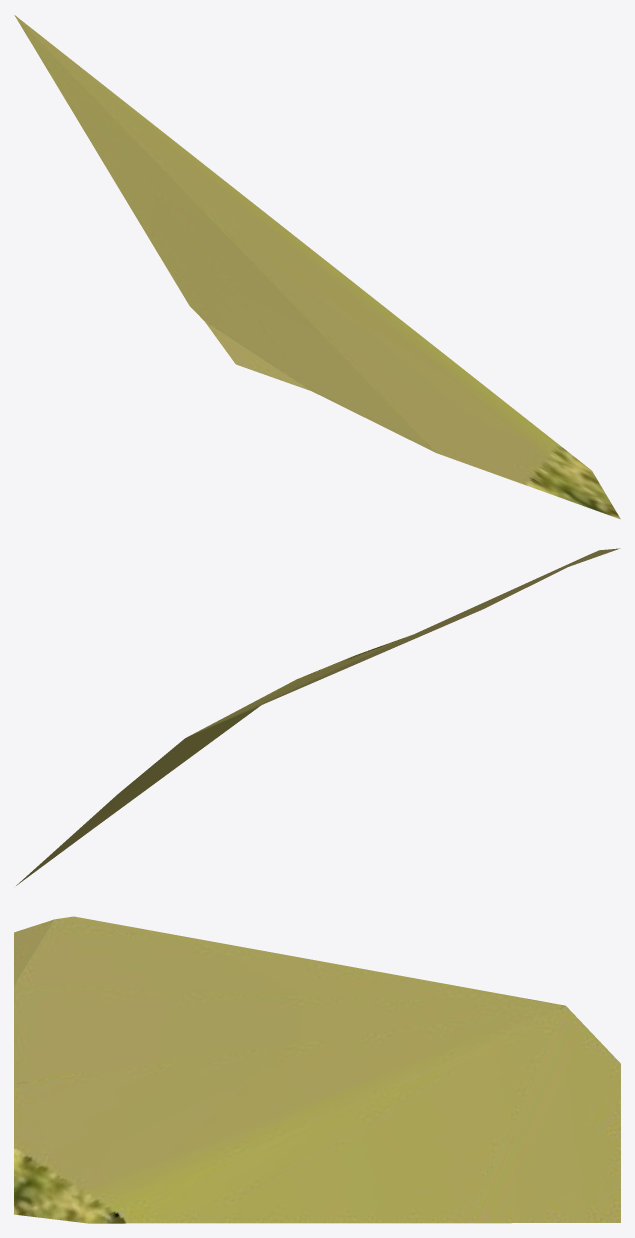
3 renders of one model, top to bottom at view 1: azimuth 30°, elevation 25°; view 2: azimuth 150°, elevation 25°; view 3: azimuth 270°, elevation 25°, orthographic. The views are drawn at different scales.
Size of the model in its own units: 1.5 by 0.9478 by 2.95.
2 materials, 2 textured.
